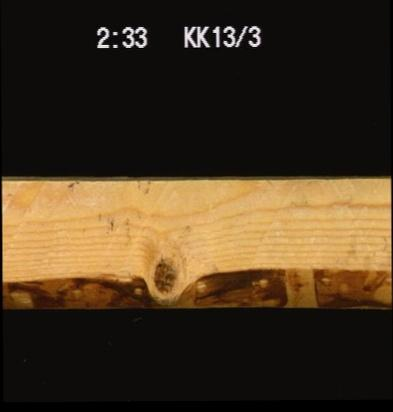sound_knot: (150, 257, 182, 292)
wave: (194, 263, 389, 307), (1, 264, 160, 311)
